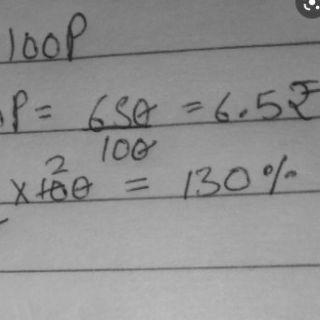.: (236, 105, 249, 119)
0: (223, 166, 253, 193), (39, 29, 62, 59), (20, 31, 40, 61), (111, 136, 131, 162)
1: (5, 21, 18, 60), (98, 136, 111, 164), (182, 167, 192, 199)
2: (44, 152, 71, 176)
3: (193, 165, 221, 198)
5: (254, 88, 283, 120), (114, 95, 132, 129)
6: (86, 91, 109, 134), (212, 90, 234, 124)
